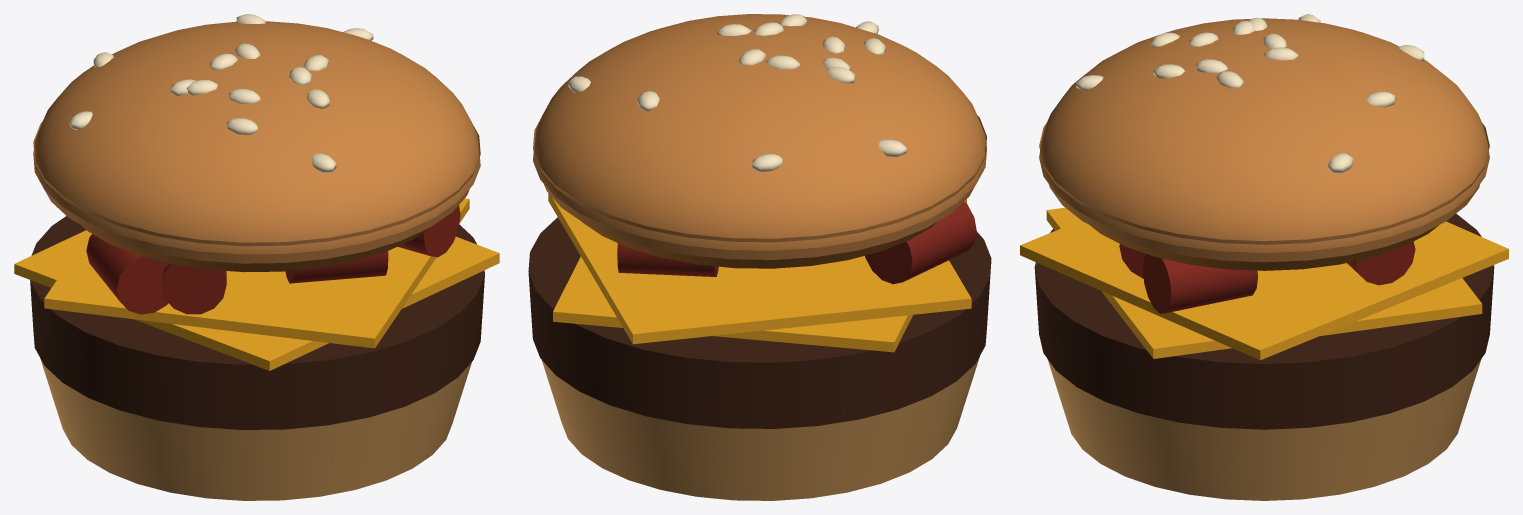
Rendered from burger-res-chorizo.glb.
3 views of the same model, side by side, from view 1: azimuth 30°, elevation 25°; view 2: azimuth 150°, elevation 25°; view 3: azimuth 270°, elevation 25° (orthographic).
Bounding box in the file's own units: 0.154 × 0.128 × 0.154.
